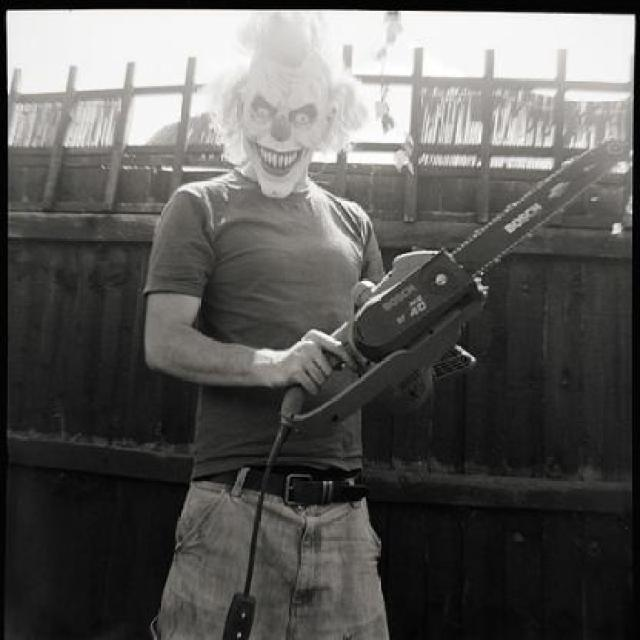Chainsaw: (272, 135, 632, 431)
